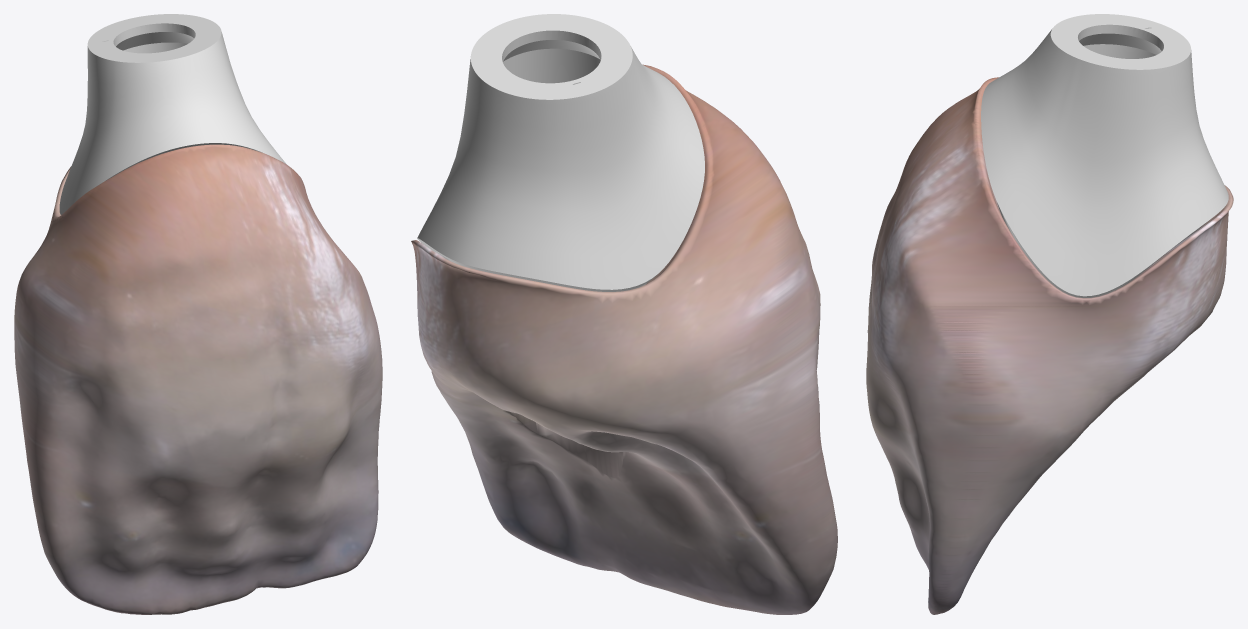
3 renders of one model, left to right at view 1: azimuth 30°, elevation 25°; view 2: azimuth 150°, elevation 25°; view 3: azimuth 270°, elevation 25°, orthographic. The views are drawn at different scales.
Visible parts, largest first — view 1: Tooth Coloured Zirconia Screw Retained Implant crown (anteri, Titanium coloured Custom Abutment Anterior Screw Retained 34; view 2: Tooth Coloured Zirconia Screw Retained Implant crown (anteri, Titanium coloured Custom Abutment Anterior Screw Retained 34; view 3: Tooth Coloured Zirconia Screw Retained Implant crown (anteri, Titanium coloured Custom Abutment Anterior Screw Retained 34.
Boxes of the visible parts, x1,y1,x2,y2 form: Tooth Coloured Zirconia Screw Retained Implant crown (anteri: (14, 144, 382, 614); Titanium coloured Custom Abutment Anterior Screw Retained 34: (59, 14, 286, 214); Tooth Coloured Zirconia Screw Retained Implant crown (anteri: (411, 64, 837, 614); Titanium coloured Custom Abutment Anterior Screw Retained 34: (417, 14, 704, 291); Tooth Coloured Zirconia Screw Retained Implant crown (anteri: (866, 77, 1233, 614); Titanium coloured Custom Abutment Anterior Screw Retained 34: (981, 14, 1228, 297).
Size of the model in its own units: 9.54 by 14.54 by 9.09.
2 materials, 1 textured.
